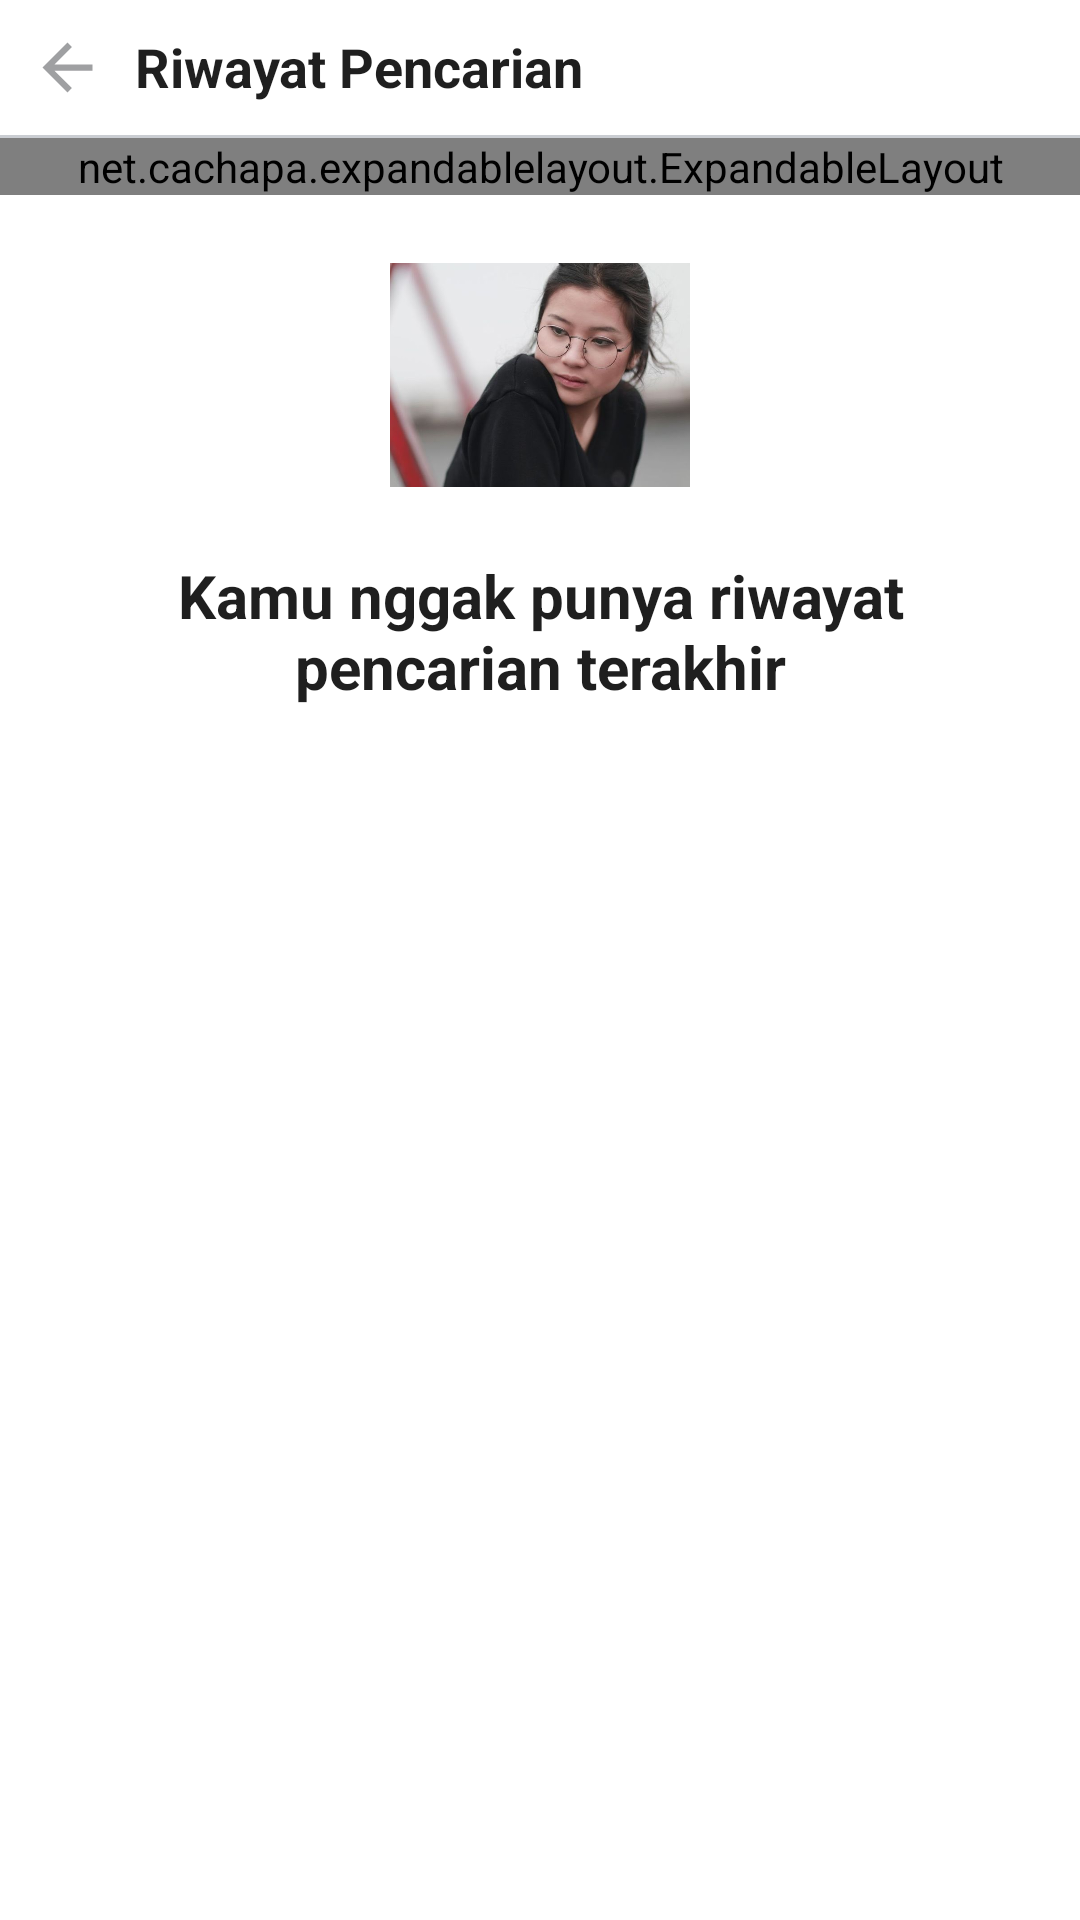

Where to tap for icons on this 1080px×1920px app screen, as (x=x, y=y):
back: (x=68, y=67)
